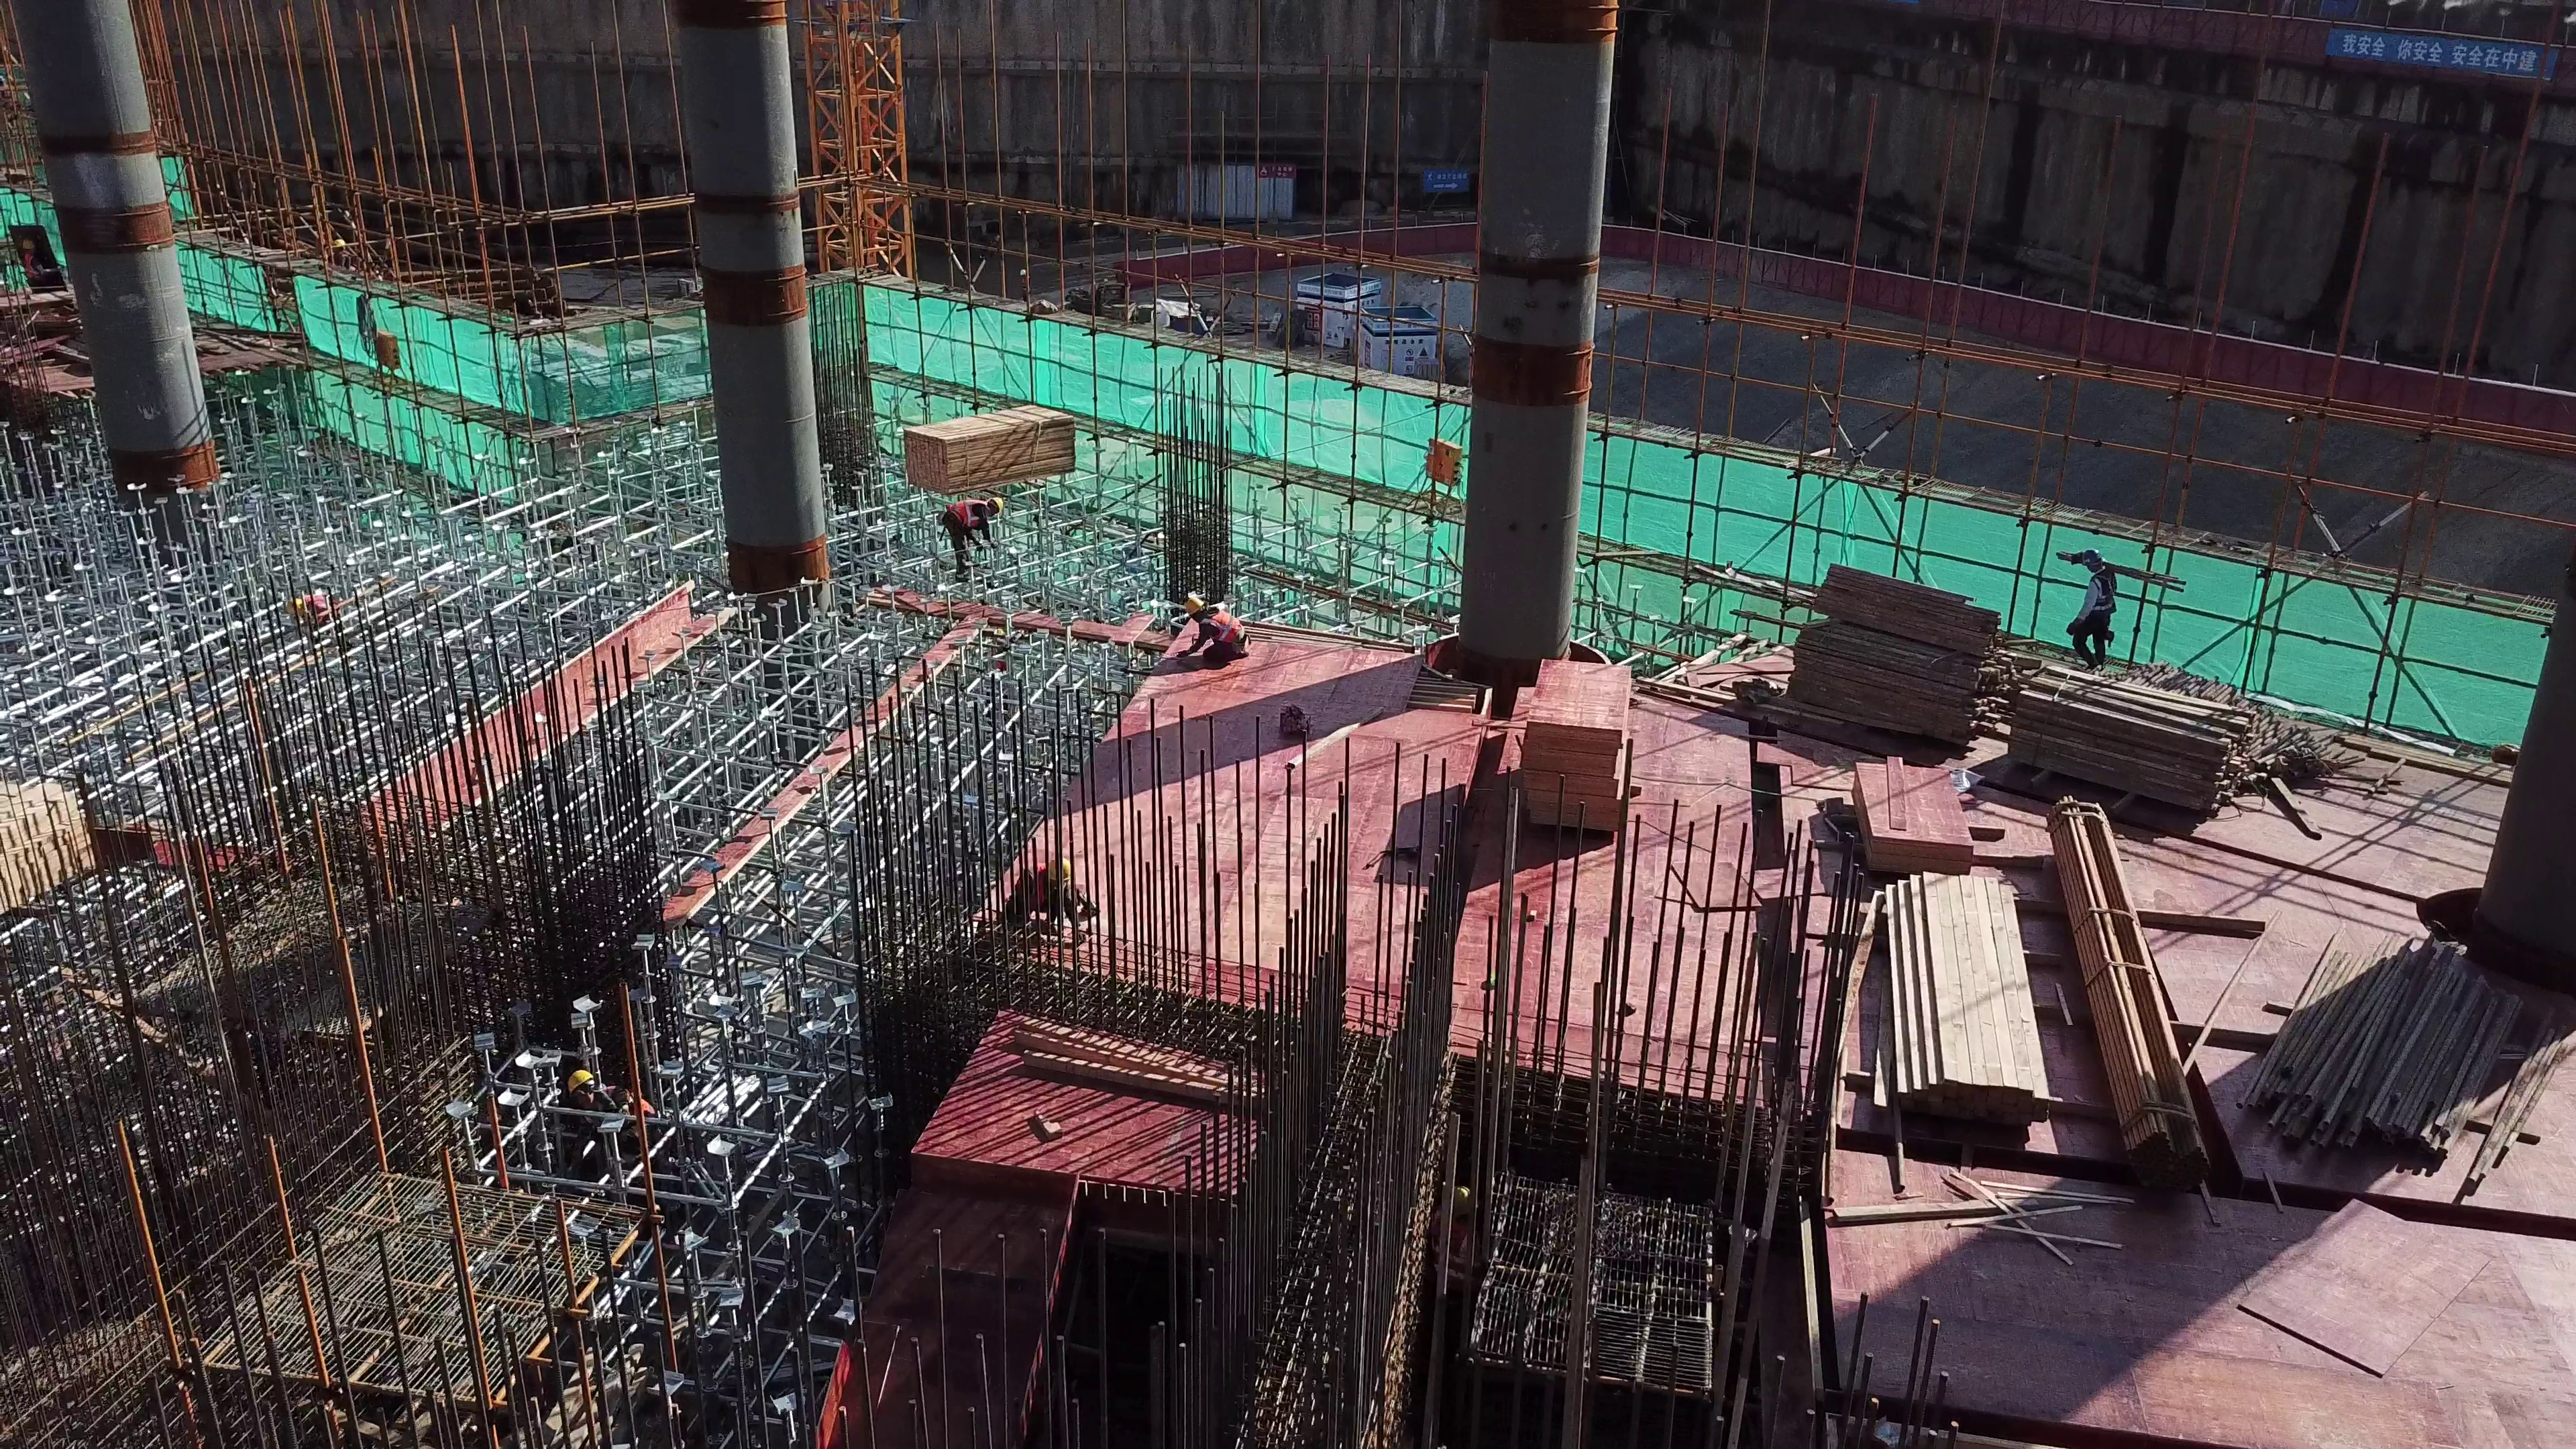board: (1517, 655, 1658, 840), (1849, 763, 1991, 881)
ebox: (1414, 439, 1461, 506), (373, 328, 408, 391)
helmet: (1048, 855, 1076, 885), (568, 1071, 597, 1093), (1182, 592, 1203, 618), (2084, 545, 2102, 568), (285, 598, 303, 619), (989, 496, 1007, 515), (334, 240, 347, 249), (1020, 268, 1026, 276)
person: (559, 1054, 674, 1162), (1007, 851, 1112, 941), (1180, 588, 1268, 672), (940, 499, 1029, 574), (2075, 543, 2119, 682), (284, 594, 346, 656), (19, 239, 56, 289), (325, 234, 352, 271), (1017, 265, 1034, 302)
scaffold: (2141, 643, 2383, 774)
slogan: (2337, 21, 2544, 72)
vest: (2080, 569, 2123, 632), (1200, 608, 1250, 655), (587, 1089, 655, 1124), (1009, 863, 1052, 914), (941, 496, 986, 531)
wood: (1845, 871, 2060, 1173), (1988, 665, 2277, 809), (1787, 567, 2003, 748), (903, 400, 1093, 490)
